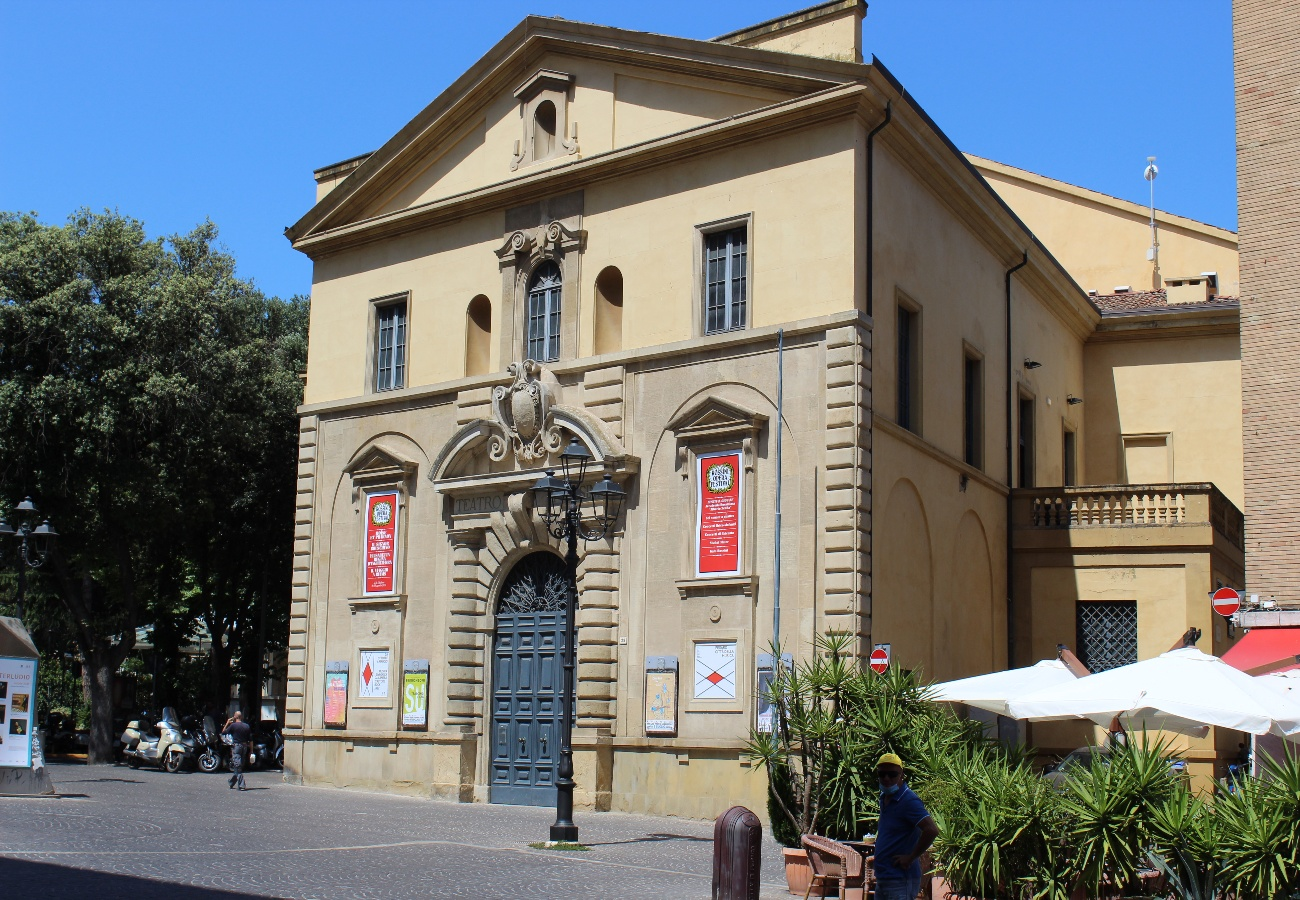Teatro Rossini: (284, 14, 873, 840)
